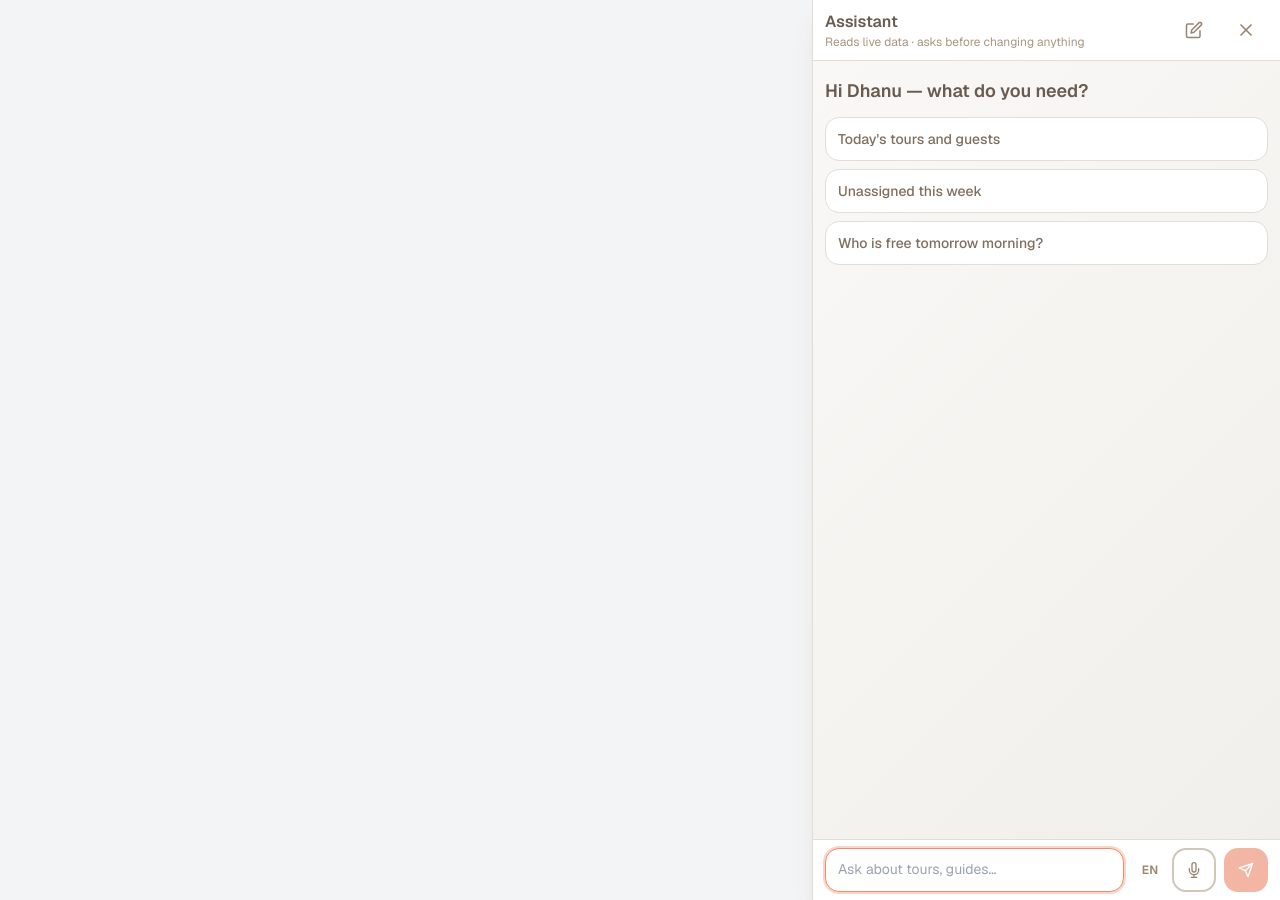
VoiceInput in the chat (step 7.6) › no speech -> its own line
Click the button with test id "voice-mic" at [1194, 870], box [1172,848,1216,892]
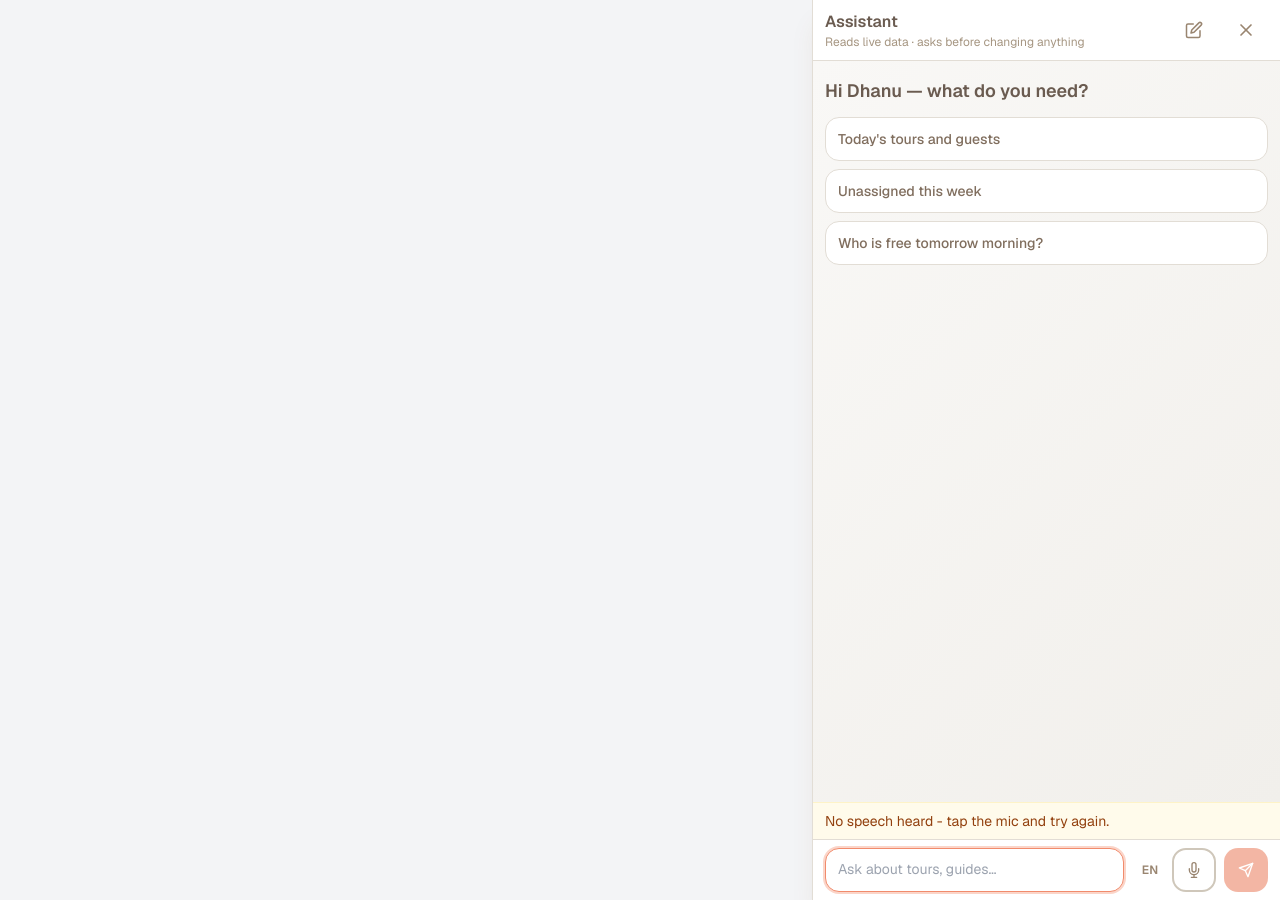
Expected: the message reads "No speech heard - tap the mic and try again.", [825,812,1109,830]
